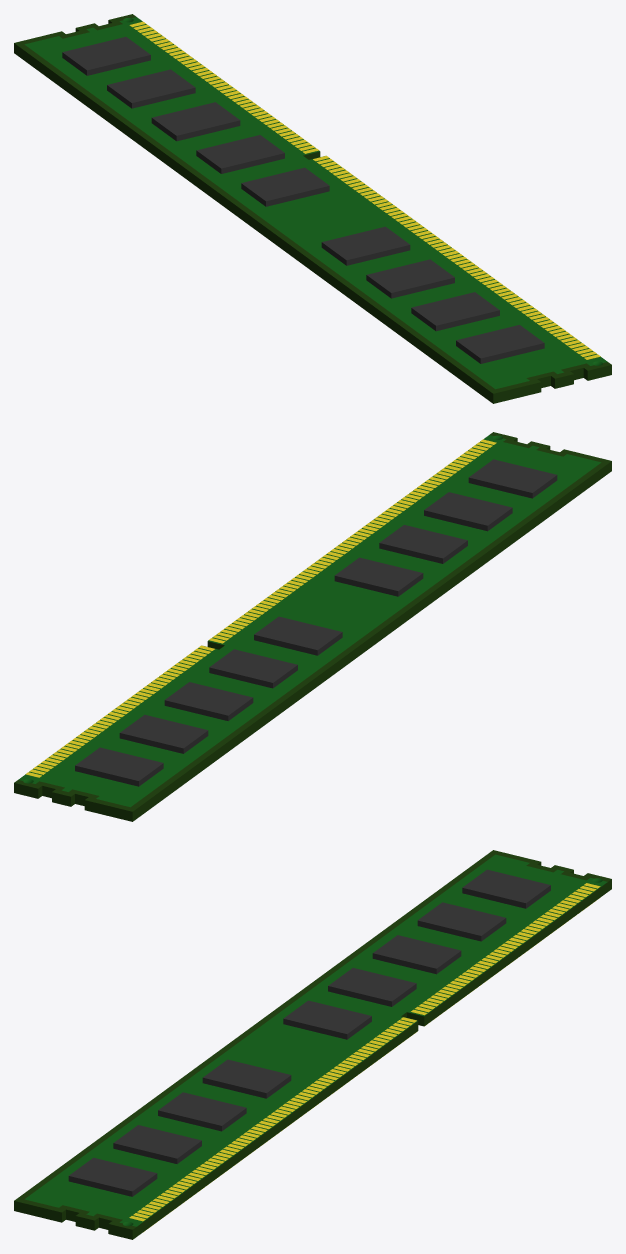
The model's file is OZU 0.01.fbx.
3 renders of one model, top to bottom at view 1: azimuth 30°, elevation 25°; view 2: azimuth 150°, elevation 25°; view 3: azimuth 330°, elevation 25°, orthographic.
Parts seen in each view (by area): view 1: Плоскость, Плоскость.002, Плоскость.003; view 2: Плоскость, Плоскость.002, Плоскость.003; view 3: Плоскость, Плоскость.002, Плоскость.003.
Boxes of the visible parts, left/top/right/bottom form: Плоскость: left=14, top=14, right=611, bottom=403; Плоскость.002: left=62, top=36, right=544, bottom=363; Плоскость.003: left=129, top=21, right=600, bottom=359; Плоскость: left=14, top=432, right=611, bottom=821; Плоскость.002: left=75, top=459, right=557, bottom=786; Плоскость.003: left=25, top=439, right=496, bottom=777; Плоскость: left=14, top=850, right=611, bottom=1239; Плоскость.002: left=68, top=869, right=550, bottom=1196; Плоскость.003: left=129, top=883, right=600, bottom=1232.
Bounding box in the file's own units: 16.03 × 2.64 × 112.
